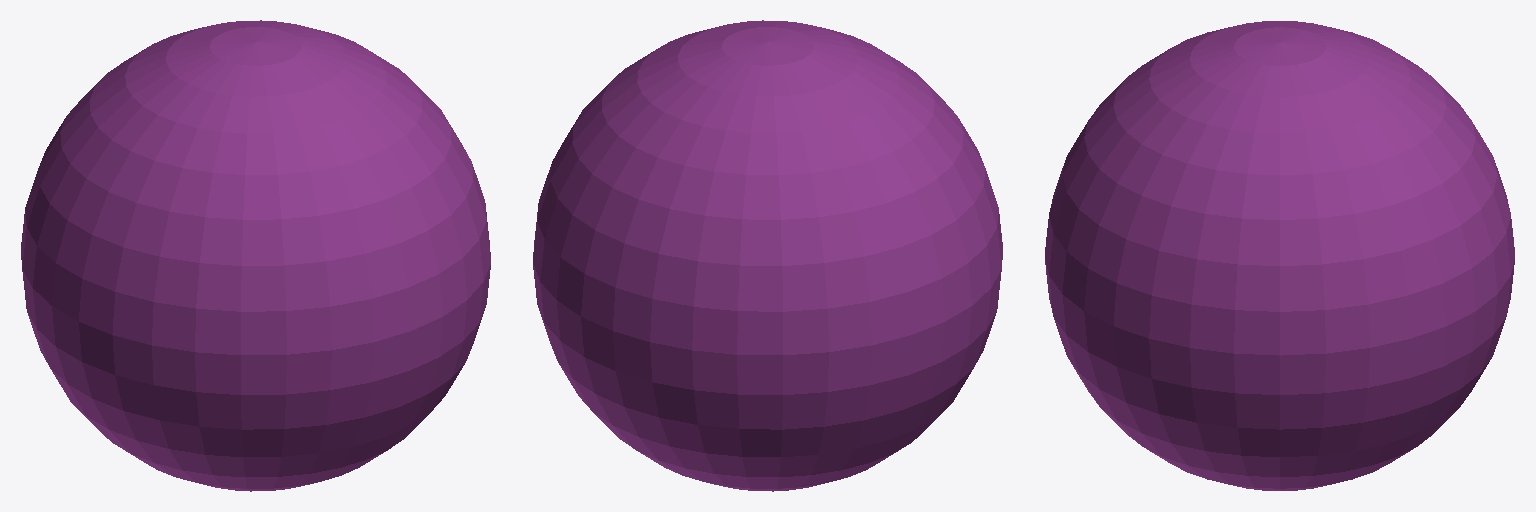
URDF robot description (Ball):
<?xml version="1.0"?>
<robot name="Ball">
  <material name="purple">
    <color rgba=".6 .3 .6 1"/>
  </material>
  <link name="path_ball">
    <inertial>
      <origin xyz="0 0.0 0" rpy="0 0 0"/>
      <mass value="0"/>
      <!-- moment = 2/5 MR^2 (https://scienceworld.wolfram.com/physics/MomentofInertiaSphere.html) -->
      <inertia ixx="0.004" ixy="0" ixz="0" iyy="0.004" iyz="0" izz="0.004"/>
    </inertial>
    <visual>
      <origin xyz="0 0 0"/>
      <geometry>
        <sphere radius=".01"/>
      </geometry>
      <material name="purple"/>
    </visual>
  </link>
</robot>

--- Render facts (derived) ---
Views: 3 orthographic renders of the robot side by side, from view 1: azimuth 30°, elevation 25°; view 2: azimuth 150°, elevation 25°; view 3: azimuth 270°, elevation 25°.
Robot: Ball — 1 links, 0 joints (none); root link path_ball; default pose: all joints at 0.
Links seen in each view (by area): view 1: path_ball; view 2: path_ball; view 3: path_ball.
Link boxes in pixels (x1=…): path_ball: x1=21, y1=20, x2=490, y2=491; path_ball: x1=533, y1=20, x2=1002, y2=491; path_ball: x1=1045, y1=21, x2=1514, y2=490.
Bounding box of the posed robot: 0.02 × 0.02 × 0.02 m (x, y, z).
Geometry: primitives only (box / cylinder / sphere), no mesh files.